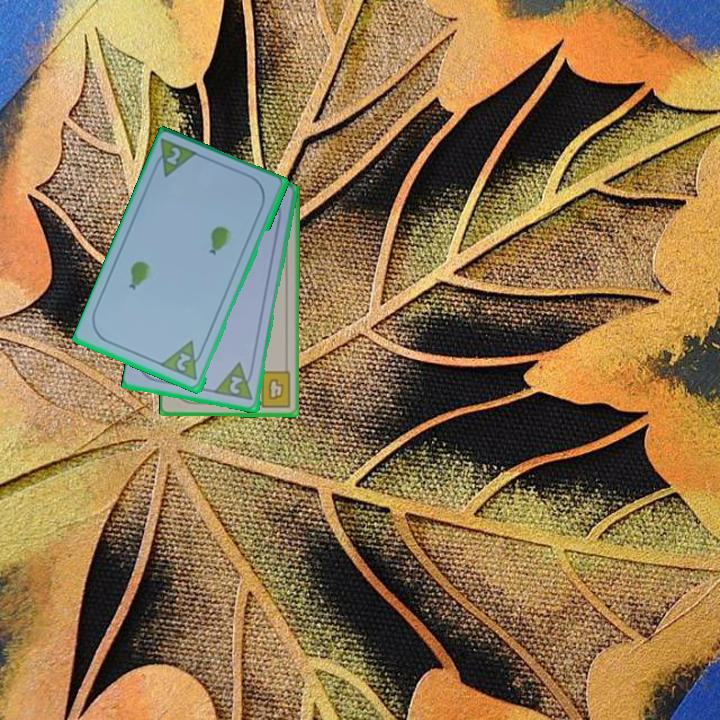2p: (212, 360, 257, 403), (163, 143, 184, 168), (173, 350, 194, 374)
4b: (250, 368, 294, 410)
